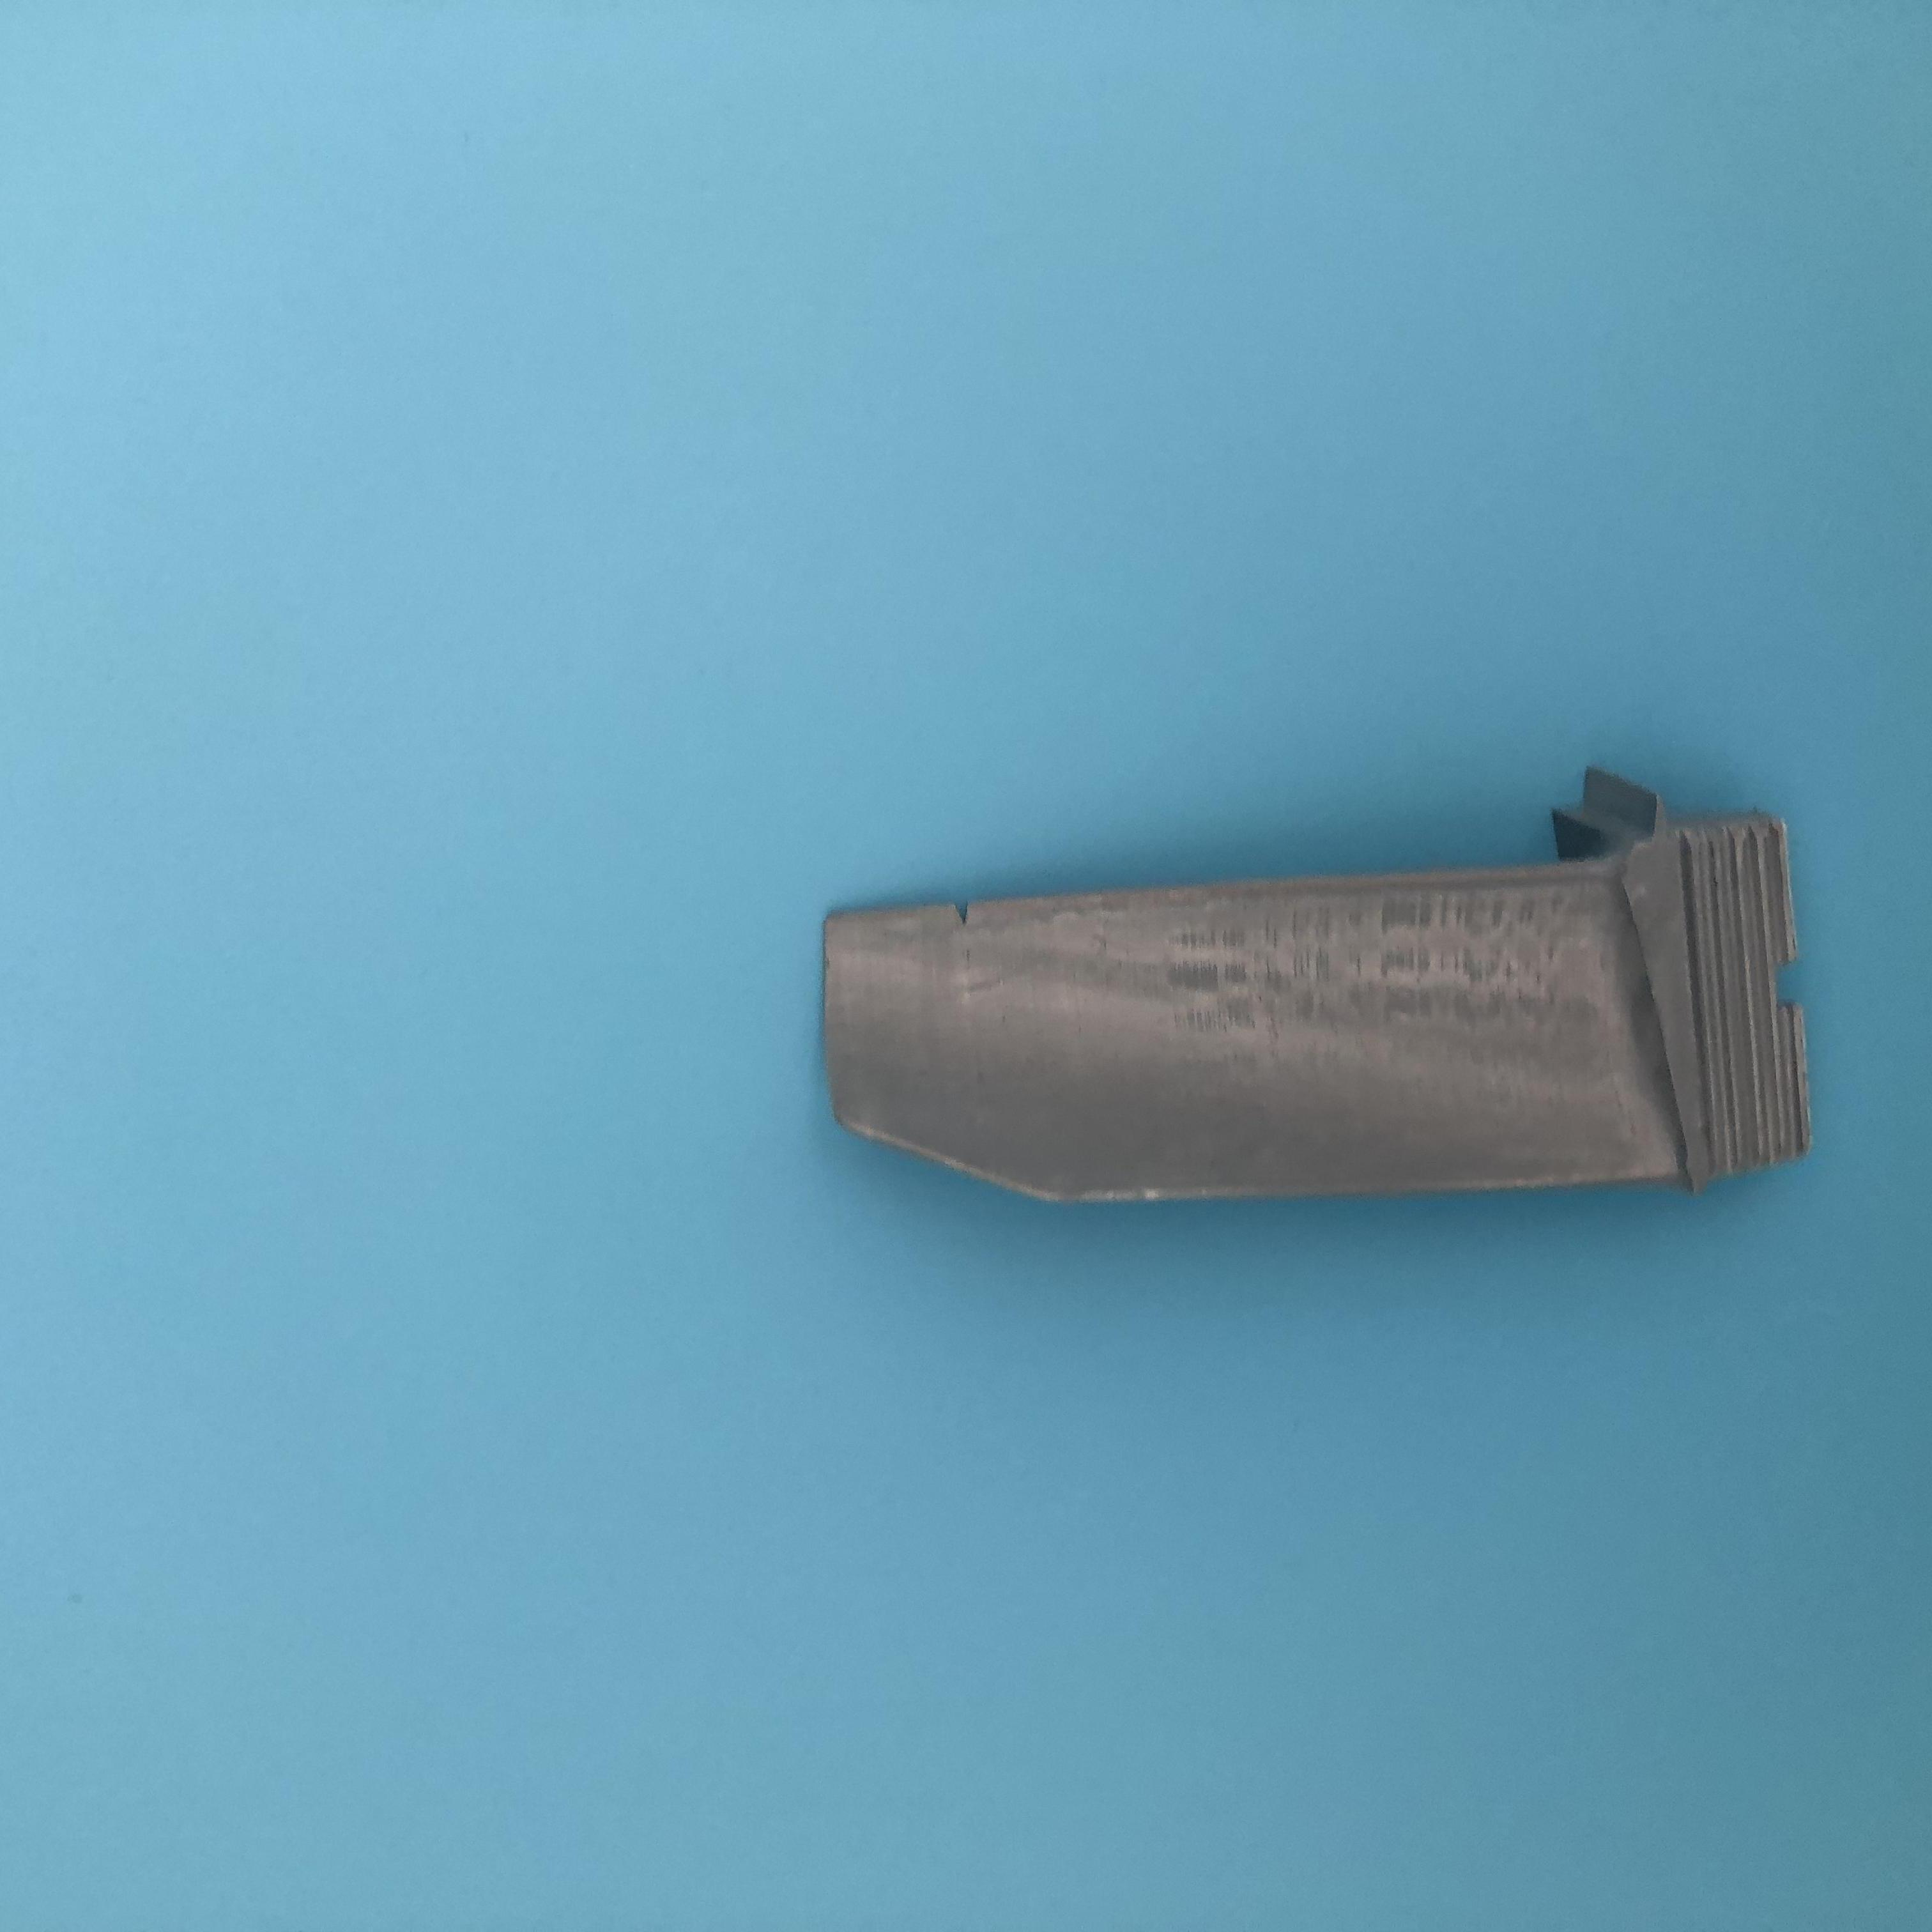groove: (941, 892, 993, 938)
